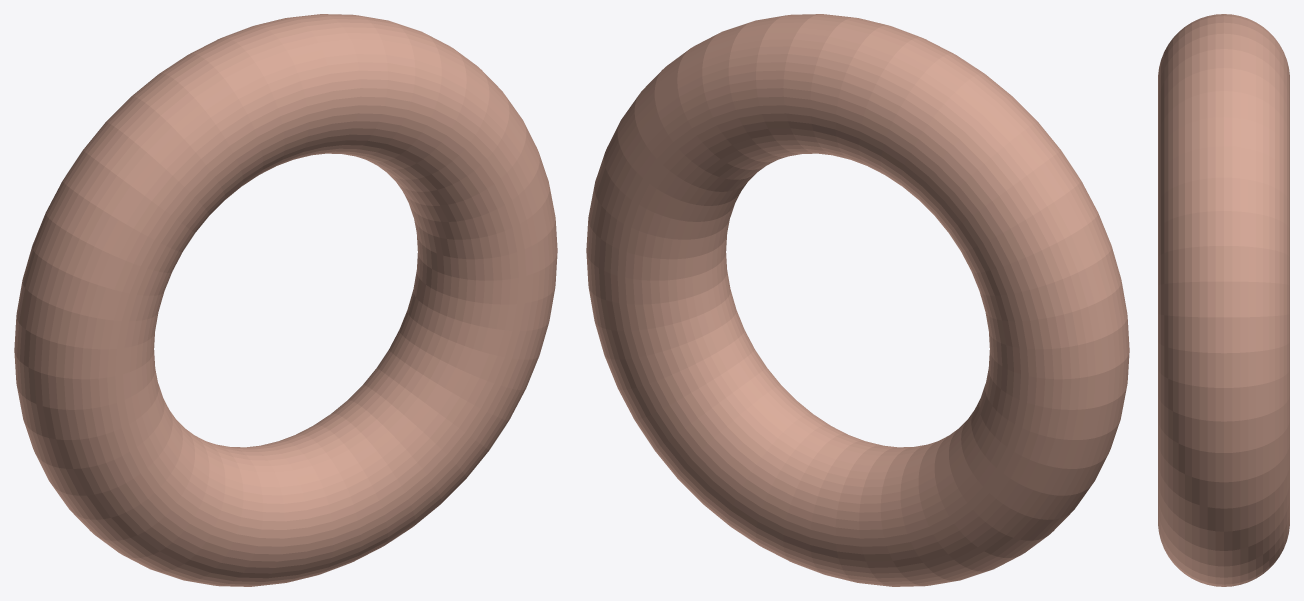
The picture shows the model from 3 angles, left to right: view 1: azimuth 30°, elevation 25°; view 2: azimuth 150°, elevation 25°; view 3: azimuth 270°, elevation 25°; orthographic projection. The views are drawn at different scales.
Parts seen in each view (by area): view 1: world; view 2: world; view 3: world.
Boxes of the visible parts, x1,y1,x2,y2 form: world: (14,14,557,586); world: (586,14,1129,586); world: (1158,14,1289,586).
Size of the model in its own units: 29.47 by 29.41 by 6.79.
